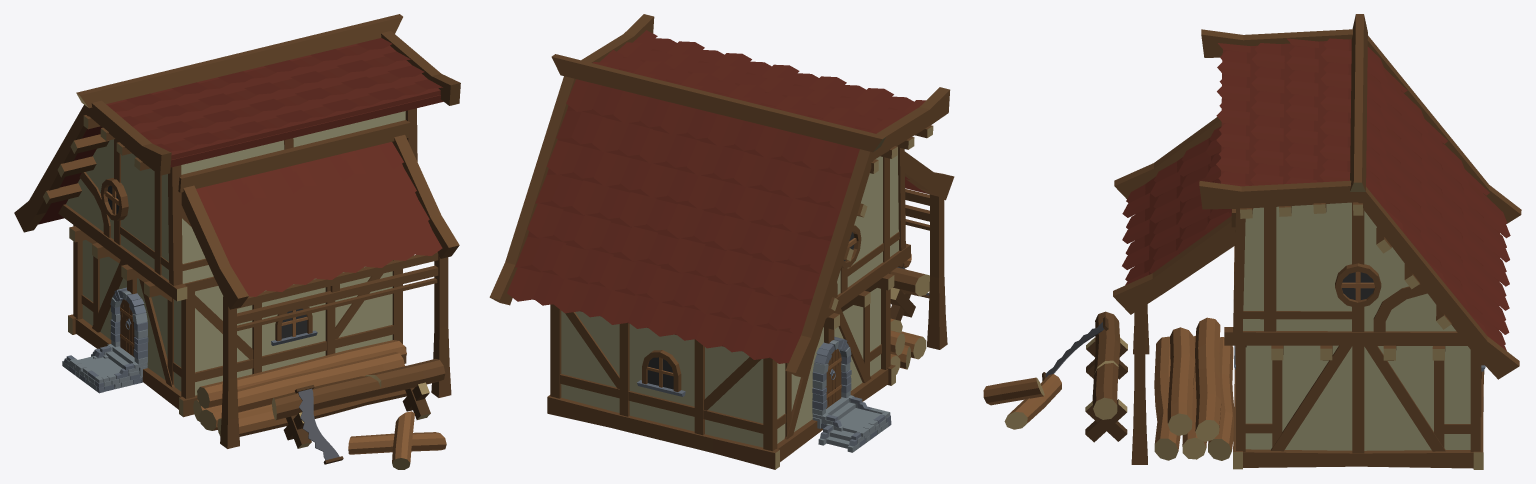
File: sawmill_lev2.glb
The picture shows the model from 3 angles, left to right: view 1: azimuth 30°, elevation 25°; view 2: azimuth 150°, elevation 25°; view 3: azimuth 270°, elevation 25°; orthographic projection. The views are drawn at different scales.
Parts seen in each view (by area): view 1: sawmill_lev2; view 2: sawmill_lev2; view 3: sawmill_lev2.
Boxes of the visible parts, left/top/right/bottom form: sawmill_lev2: left=14, top=14, right=460, bottom=469; sawmill_lev2: left=489, top=14, right=954, bottom=469; sawmill_lev2: left=983, top=14, right=1521, bottom=469.
Bounding box in the file's own units: 9.13 × 7.96 × 12.25.
